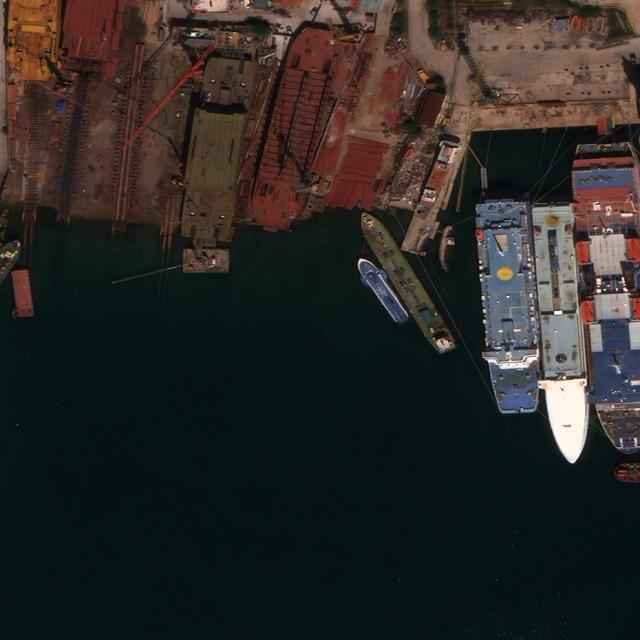Cargo: (246, 21, 343, 234)
Oil Tanker: (352, 206, 460, 358)
Other Ship: (571, 142, 640, 456), (469, 198, 546, 415), (531, 201, 594, 465), (175, 56, 255, 251), (353, 253, 411, 328), (183, 248, 230, 273), (12, 269, 35, 319), (1, 240, 23, 288), (440, 226, 456, 273), (613, 462, 640, 483), (584, 16, 595, 35), (594, 15, 605, 34), (570, 15, 579, 33), (577, 16, 586, 31)
